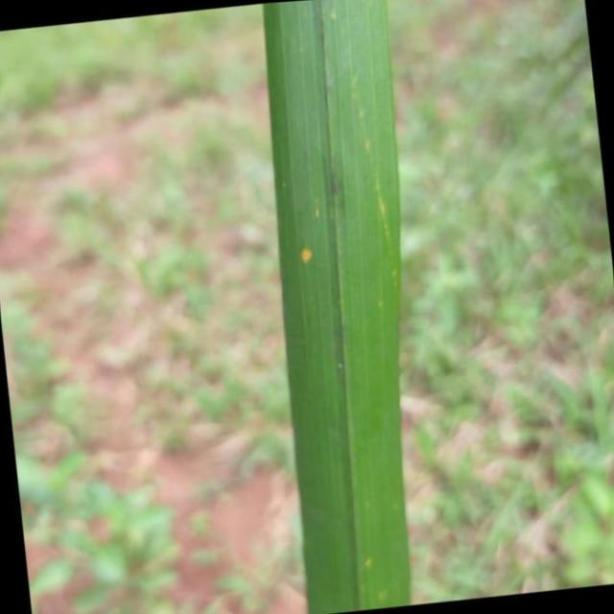Kalium: (267, 0, 406, 614)
